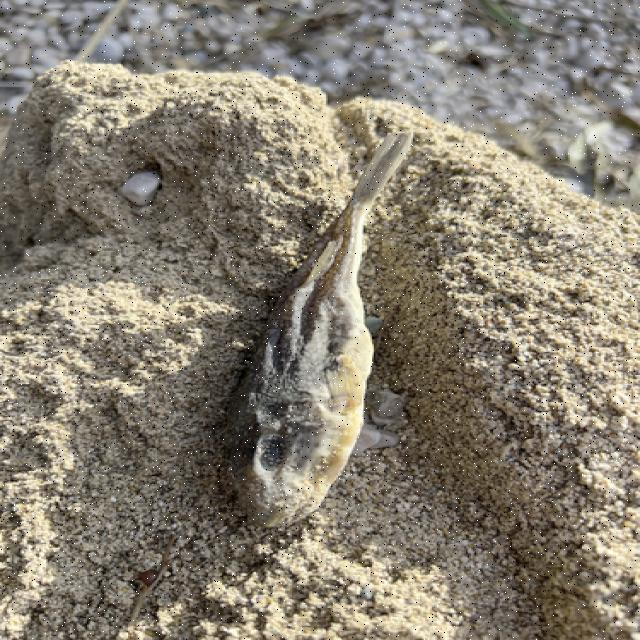Balik: (227, 134, 413, 526)
